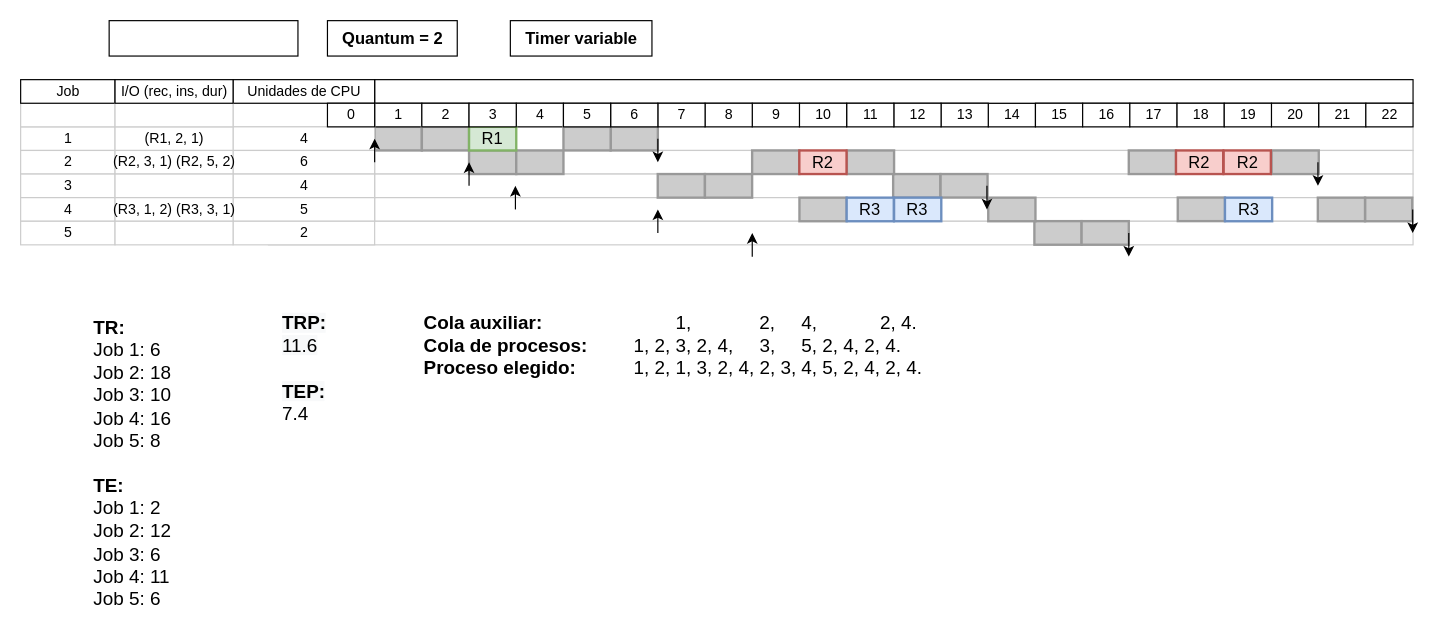
This 1443x643 diagram has some shape labels left out. The shapes that lost their labels are listed below. From the top down, each one's centre as x and y in pixels, then its label:
[203,37]: Round Robin Virtual
[893,90]: Instante de tiempo
